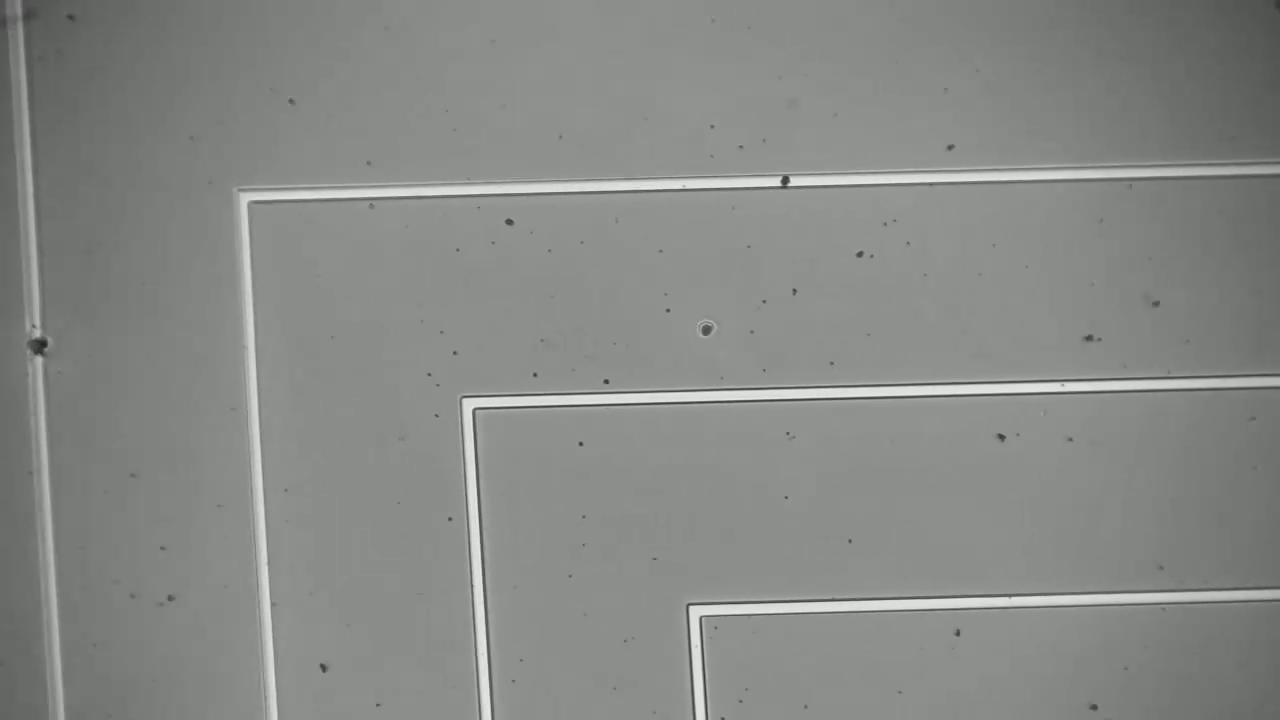stains_enbedded: (16, 319, 60, 375), (773, 169, 804, 199)
